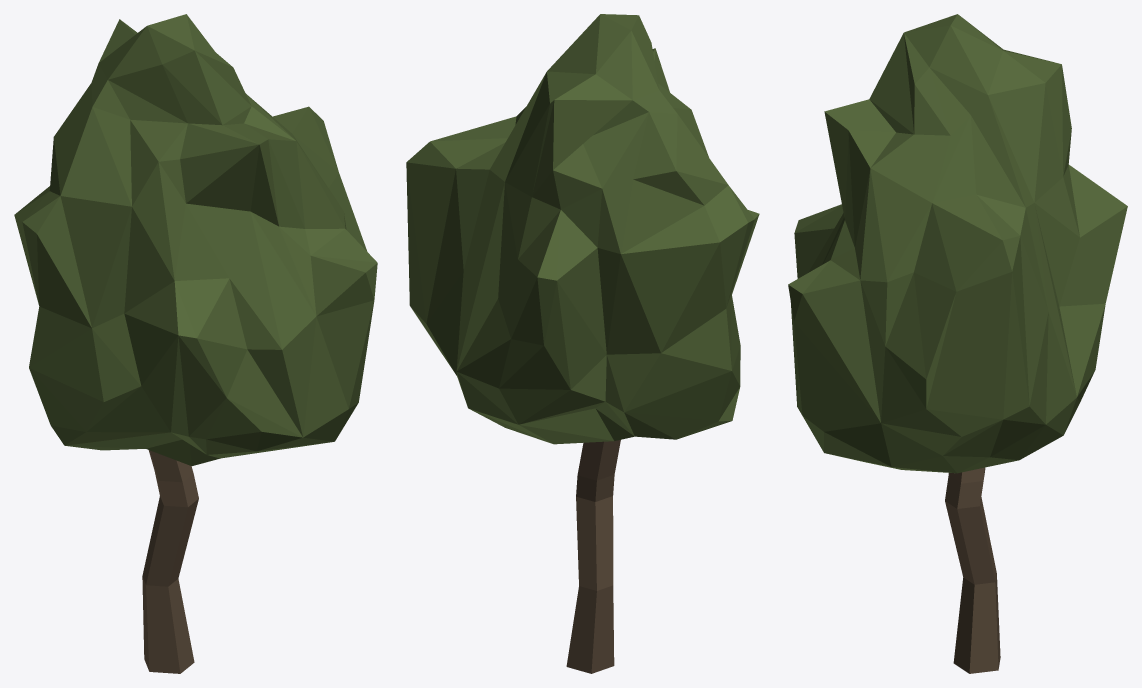
File: tree_067.fbx
3 views of the same model, side by side, from view 1: azimuth 30°, elevation 25°; view 2: azimuth 150°, elevation 25°; view 3: azimuth 270°, elevation 25° (orthographic). The views are drawn at different scales.
Visible parts, largest first — view 1: tree_067; view 2: tree_067; view 3: tree_067.
Boxes of the visible parts, box(x1,y1,x2,y2) form: tree_067: box(14, 14, 377, 673); tree_067: box(406, 14, 759, 673); tree_067: box(788, 14, 1127, 673).
Bounding box in the file's own units: 1.34 × 2.54 × 1.22.
1 material, 1 textured.
